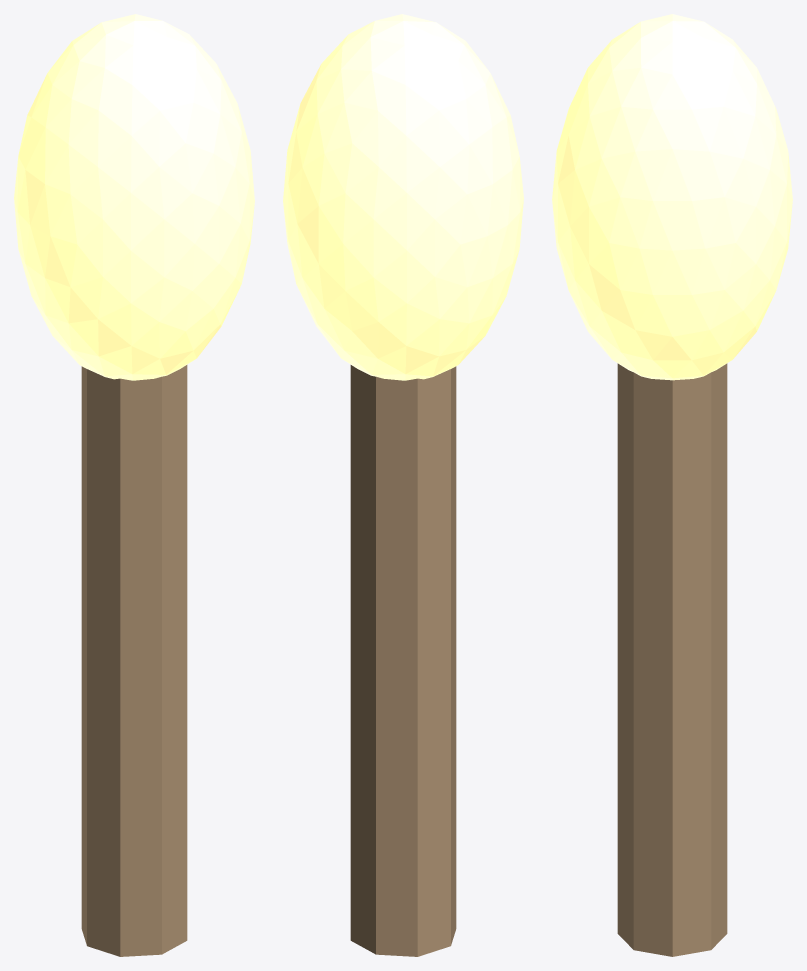
The model's file is antorcha.glb.
3 views of the same model, side by side, from view 1: azimuth 30°, elevation 25°; view 2: azimuth 150°, elevation 25°; view 3: azimuth 270°, elevation 25° (orthographic).
Parts seen in each view (by area): view 1: llama, palo; view 2: llama, palo; view 3: llama, palo.
Boxes of the visible parts, x1=… form: llama: x1=14, y1=14, x2=254, y2=380; palo: x1=81, y1=365, x2=187, y2=956; llama: x1=283, y1=14, x2=523, y2=380; palo: x1=350, y1=365, x2=456, y2=956; llama: x1=552, y1=14, x2=792, y2=380; palo: x1=617, y1=363, x2=727, y2=956.
Size of the model in its own units: 0.2152 by 0.9 by 0.2152.
